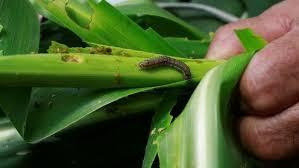fallarmy_worm: (131, 54, 195, 82)
